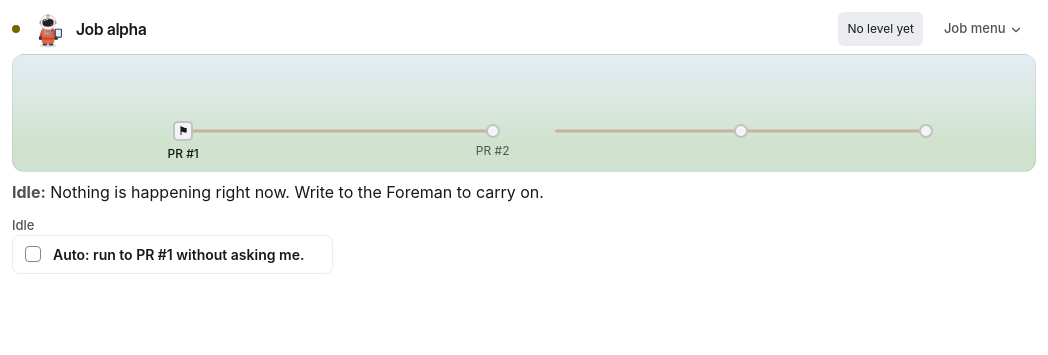
Test case: the Foreman model line › Change model… is not offered for a job with no Foreman session yet
Click the button "Job menu": (983, 29) [931, 12, 1036, 46]
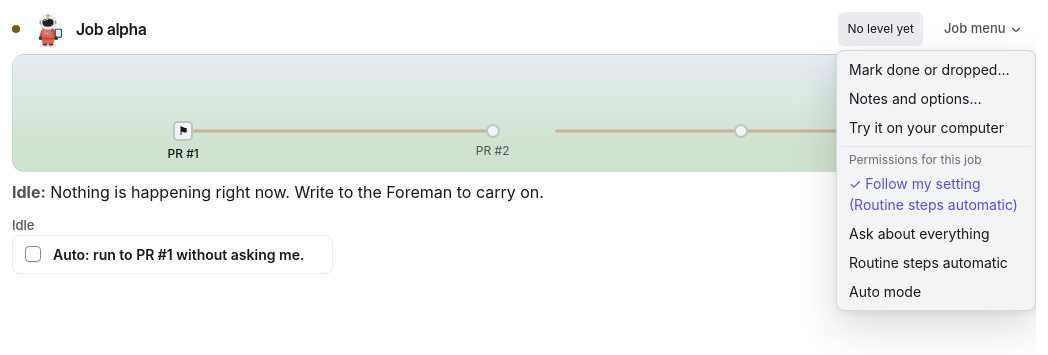
Result: the button "Notes and options…" is shown at [841, 84, 1031, 113]
